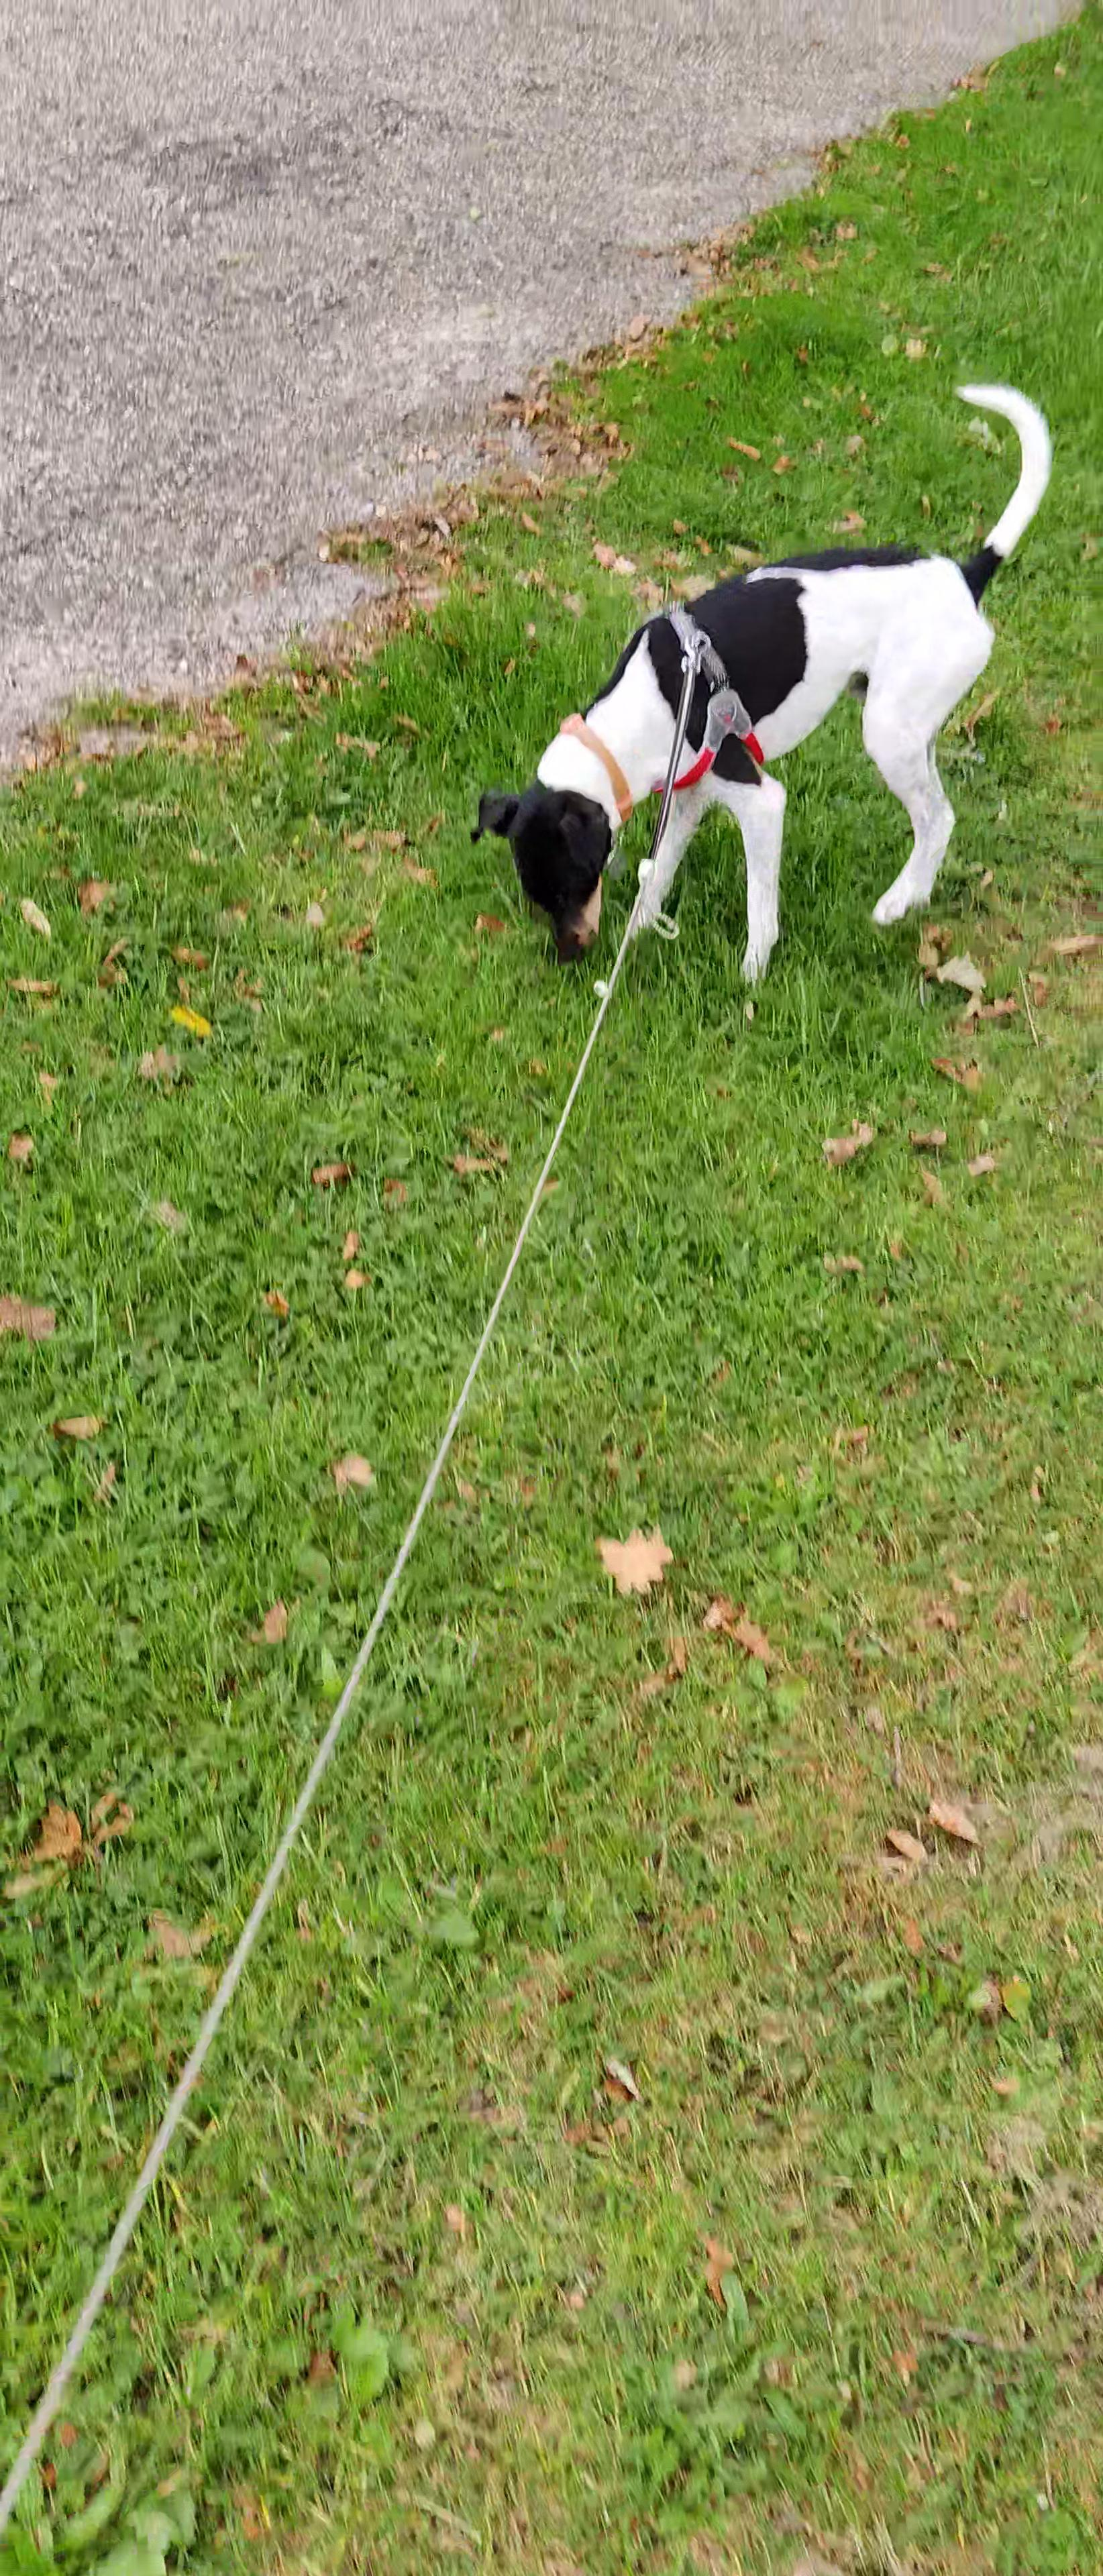Dog: (452, 373, 1065, 982)
